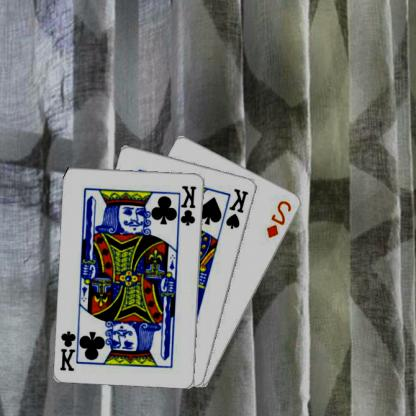2D: (266, 198, 295, 240)
KC: (60, 324, 84, 371), (176, 184, 200, 230)
KS: (225, 186, 252, 230)
